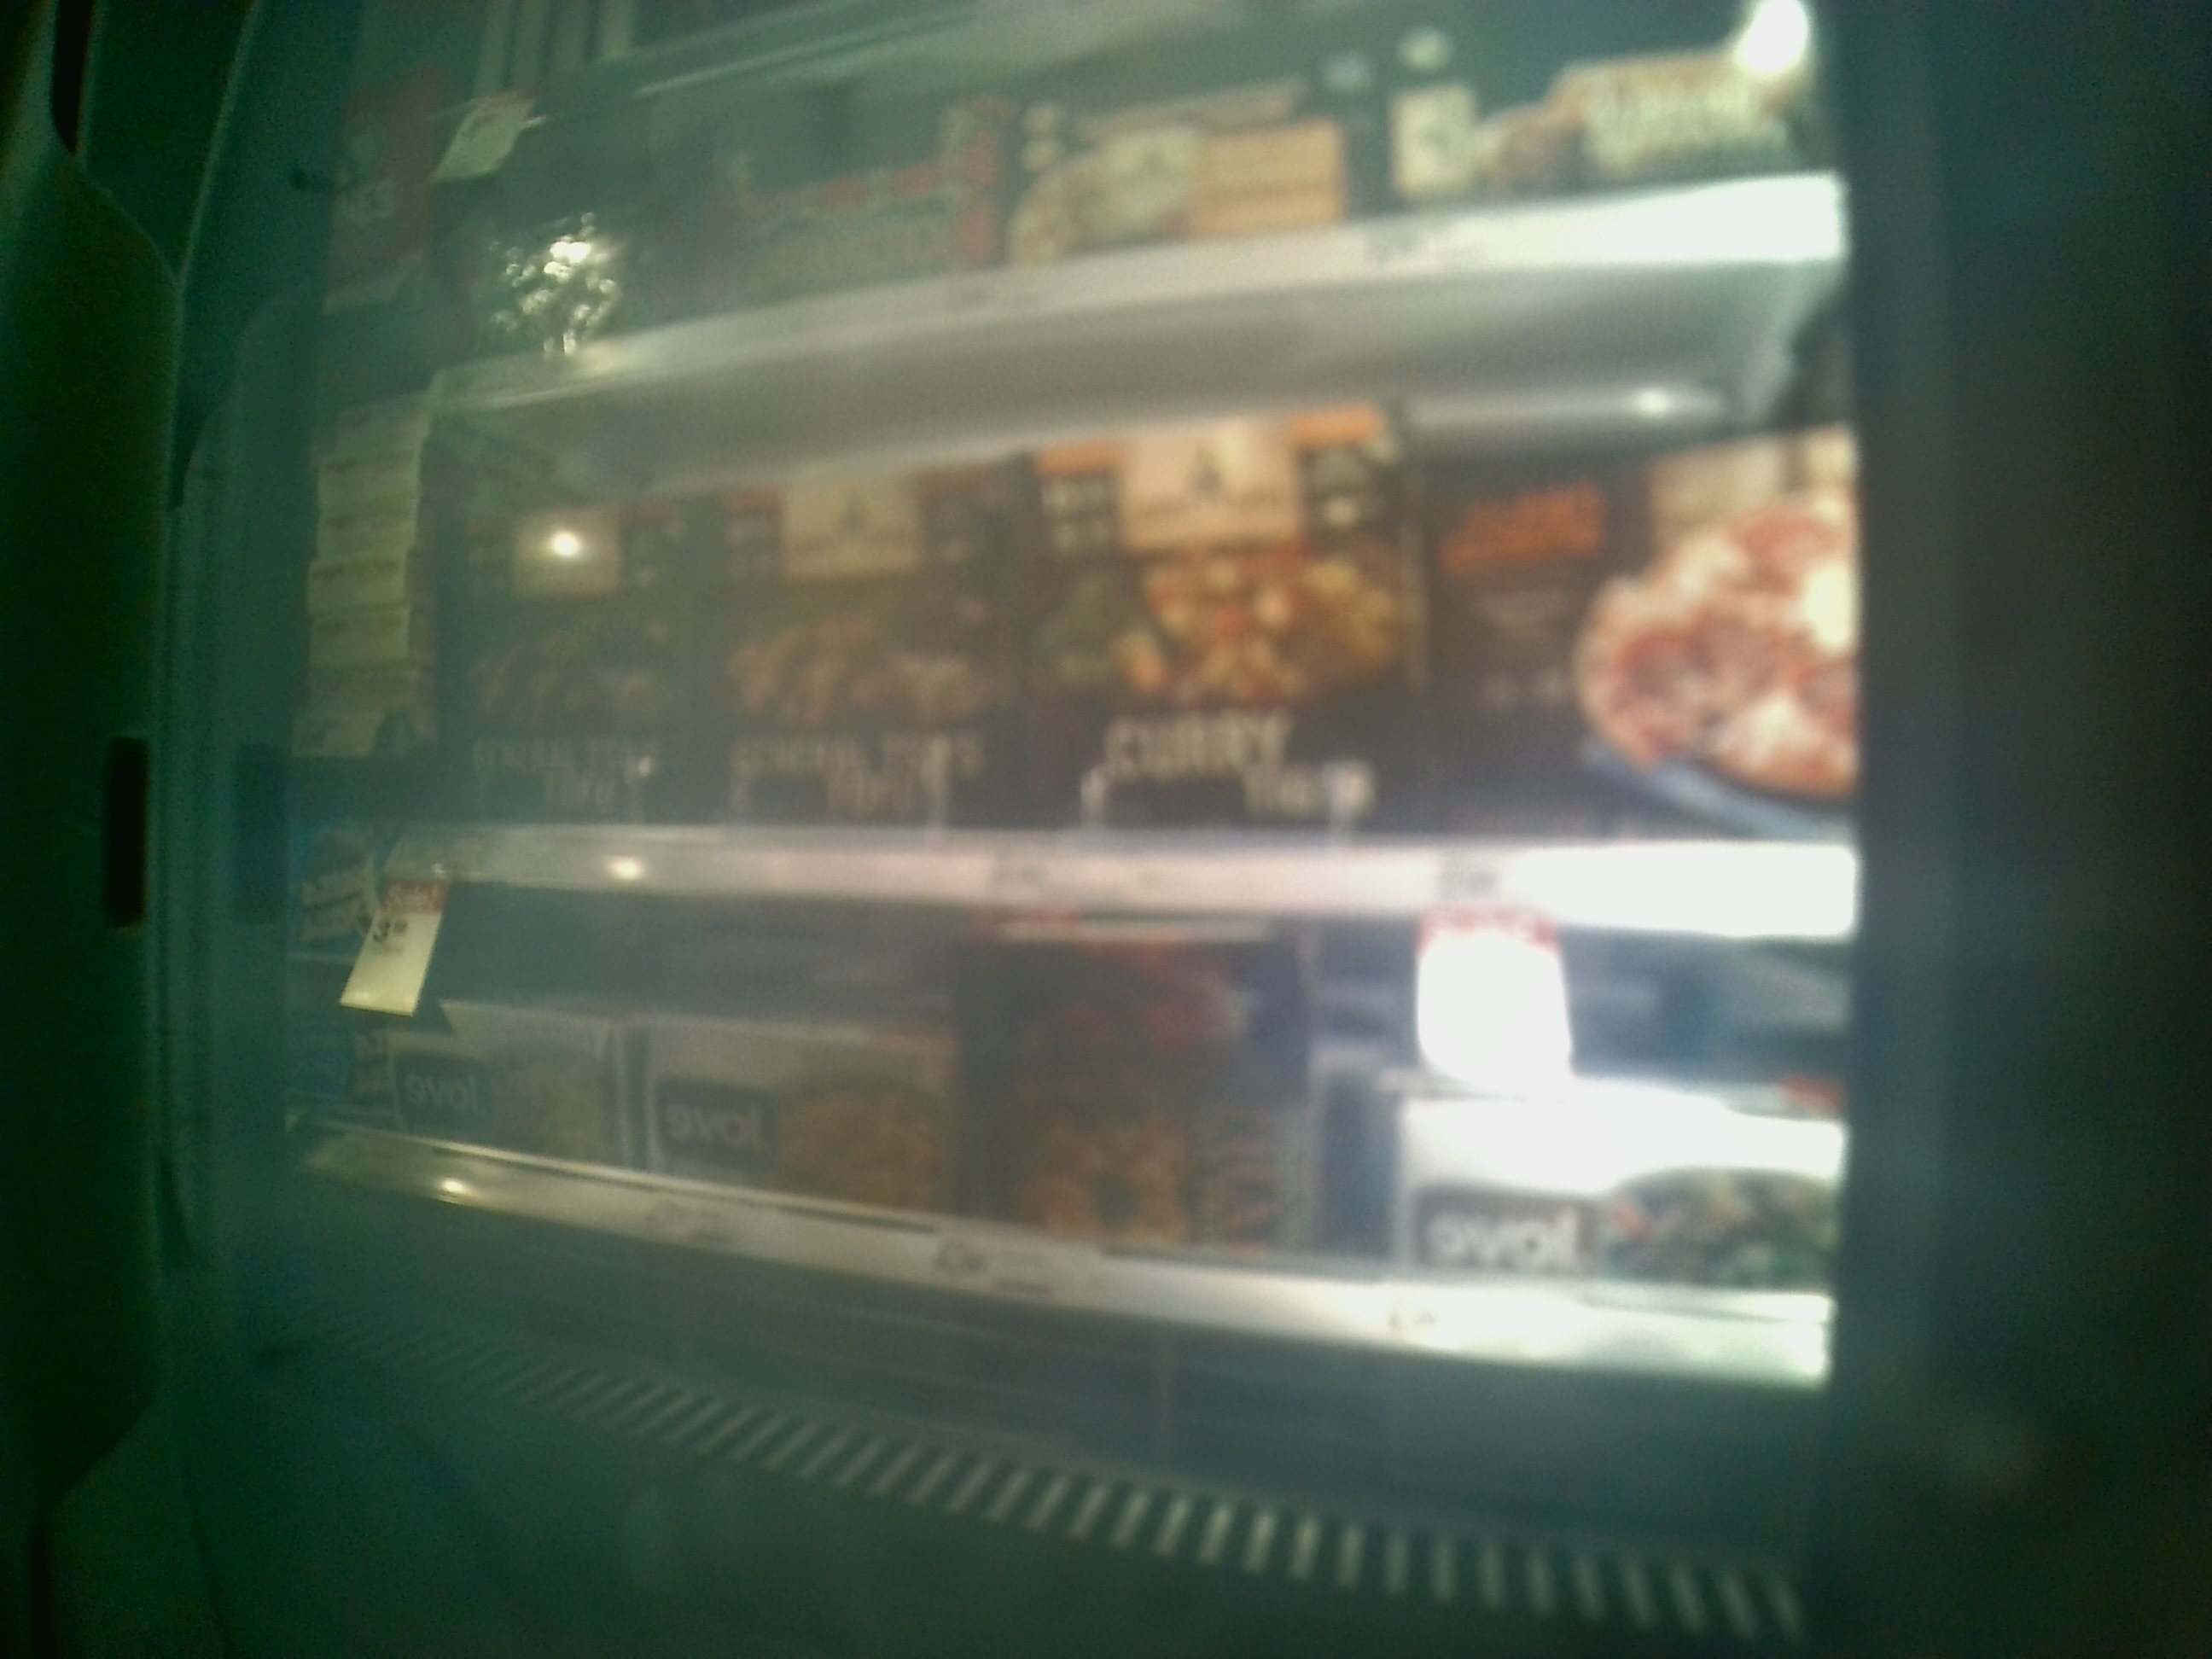frozen-food-shelf: (380, 416, 1878, 932), (291, 932, 1883, 1389)
